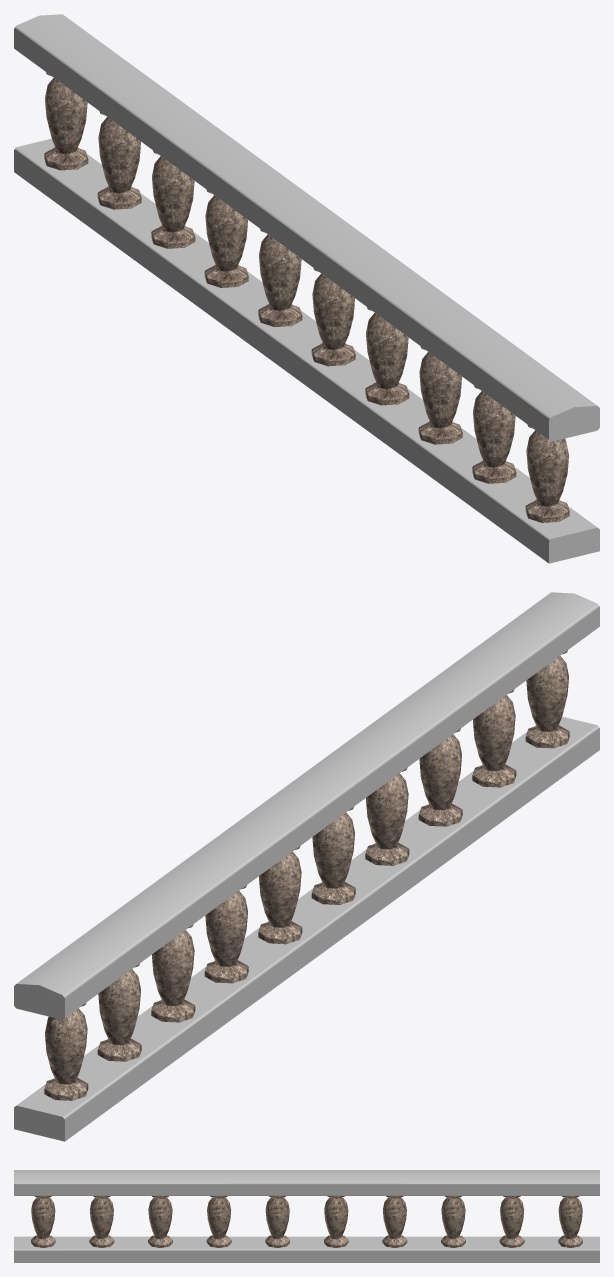
The model's file is Geländer_8m.gltf.
3 renders of one model, top to bottom at view 1: azimuth 30°, elevation 25°; view 2: azimuth 150°, elevation 25°; view 3: azimuth 270°, elevation 25°, orthographic. The views are drawn at different scales.
Parts seen in each view (by area): view 1: Geländer_8m; view 2: Geländer_8m; view 3: Geländer_8m.
Boxes of the visible parts, x1=… form: Geländer_8m: x1=14, y1=14, x2=599, y2=563; Geländer_8m: x1=14, y1=592, x2=599, y2=1141; Geländer_8m: x1=14, y1=1170, x2=599, y2=1262.
Size of the model in its own units: 0.44 by 1.24 by 8.
